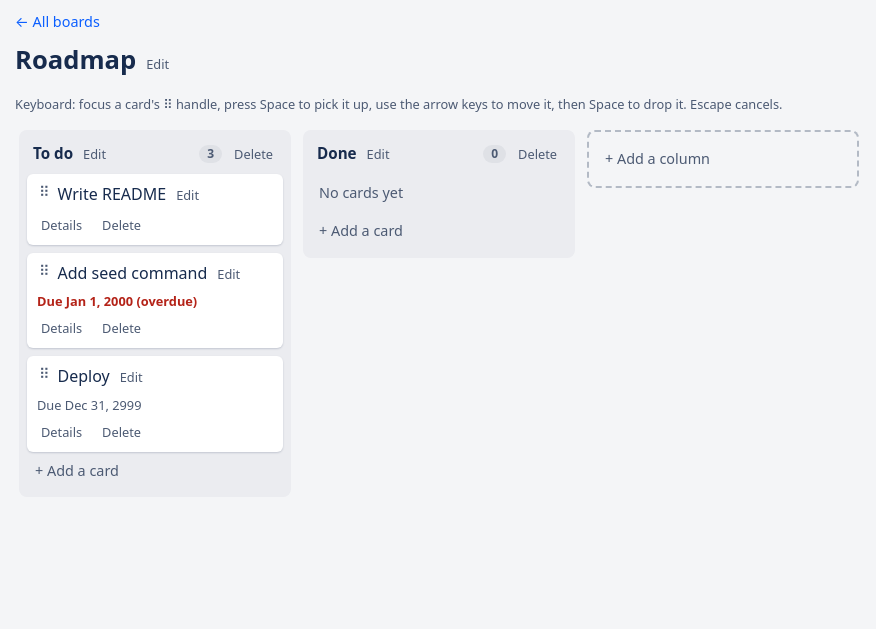
it: BoardPage cards › adds a card at the bottom of its column and saves it
The width and height of the screenshot is (876, 629).
Click the button "+ Add a card" below "Dec 31, 2999".
click(155, 471)  # box x1=27 y1=452 x2=283 y2=490
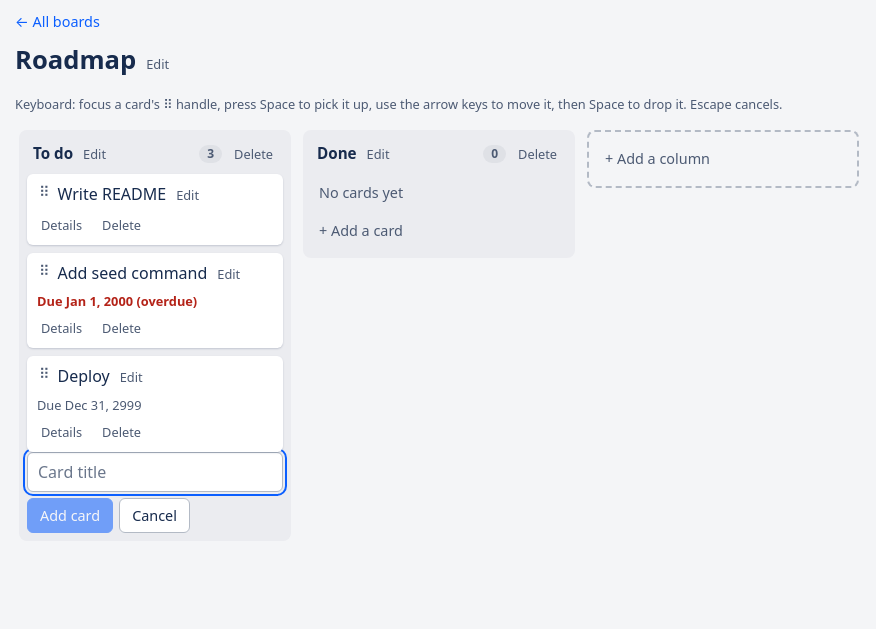
Type "  Brand new card  " into the field labelled "Card title".
click(155, 472); type("  Brand new card  ")  # box x1=27 y1=452 x2=283 y2=492
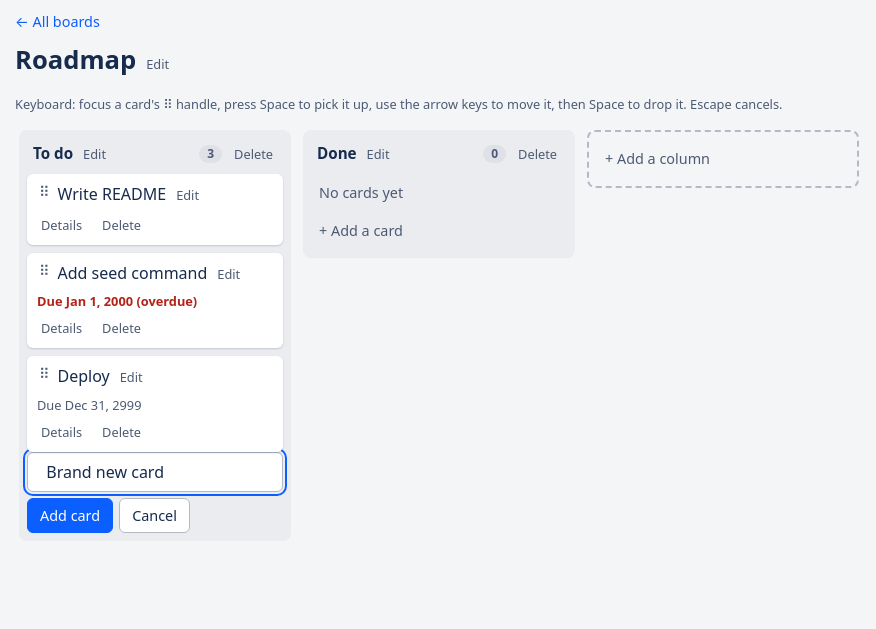
Click the button "Add card".
click(70, 516)  # box x1=27 y1=498 x2=113 y2=534
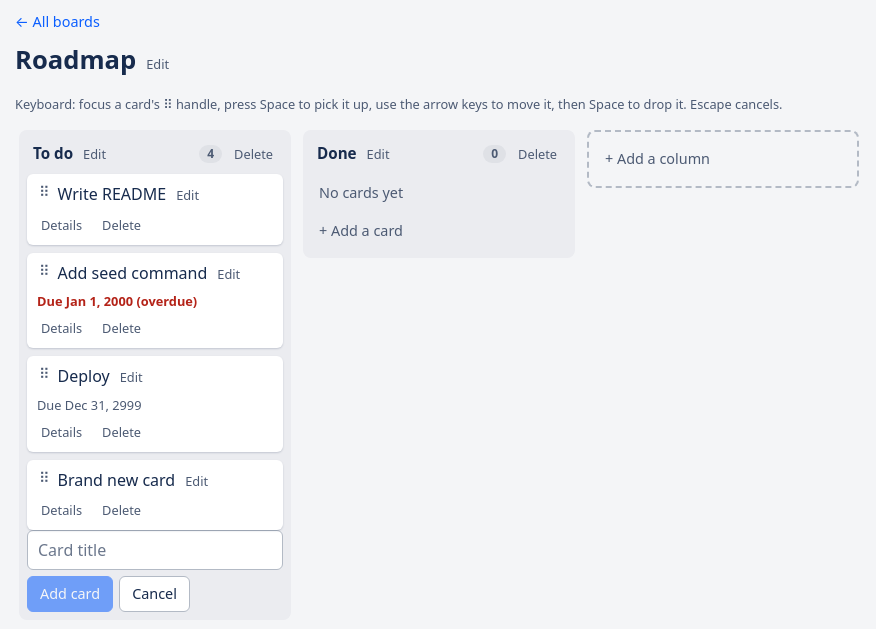
expect the number of list items is 4: met, box x1=27 y1=174 x2=283 y2=245; x1=27 y1=253 x2=283 y2=348; x1=27 y1=356 x2=283 y2=452; x1=27 y1=460 x2=283 y2=530
expect the list item "⠿ Brand new card Edit Details Delete" is shown: met, box x1=27 y1=460 x2=283 y2=530
